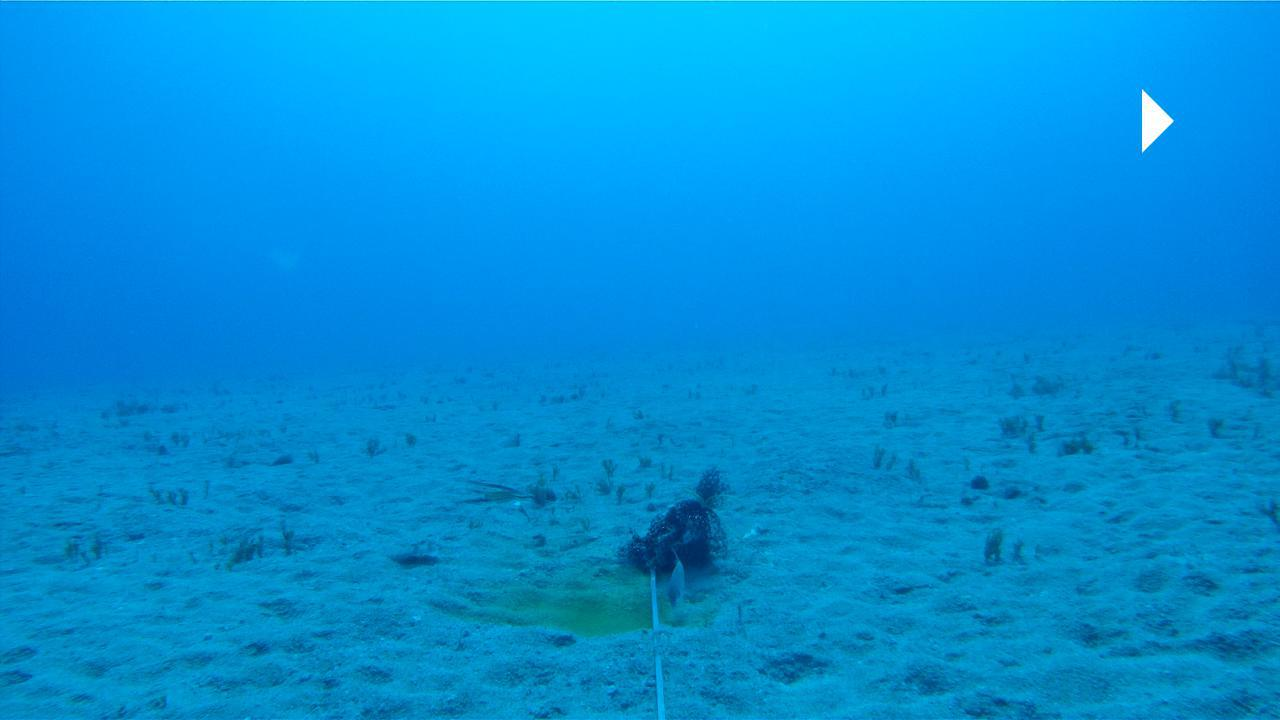bothus: (386, 538, 444, 568)
